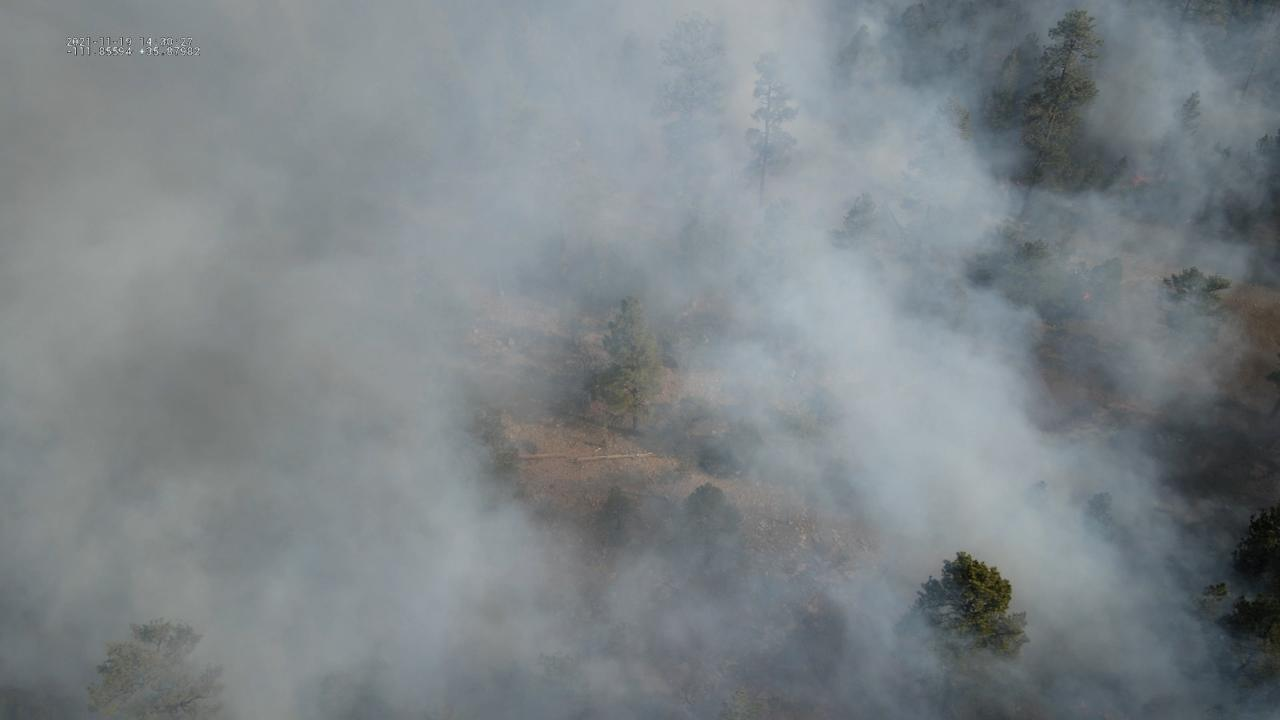fire: (1129, 171, 1146, 189), (1081, 289, 1096, 302)
smoke: (0, 0, 1280, 720)
